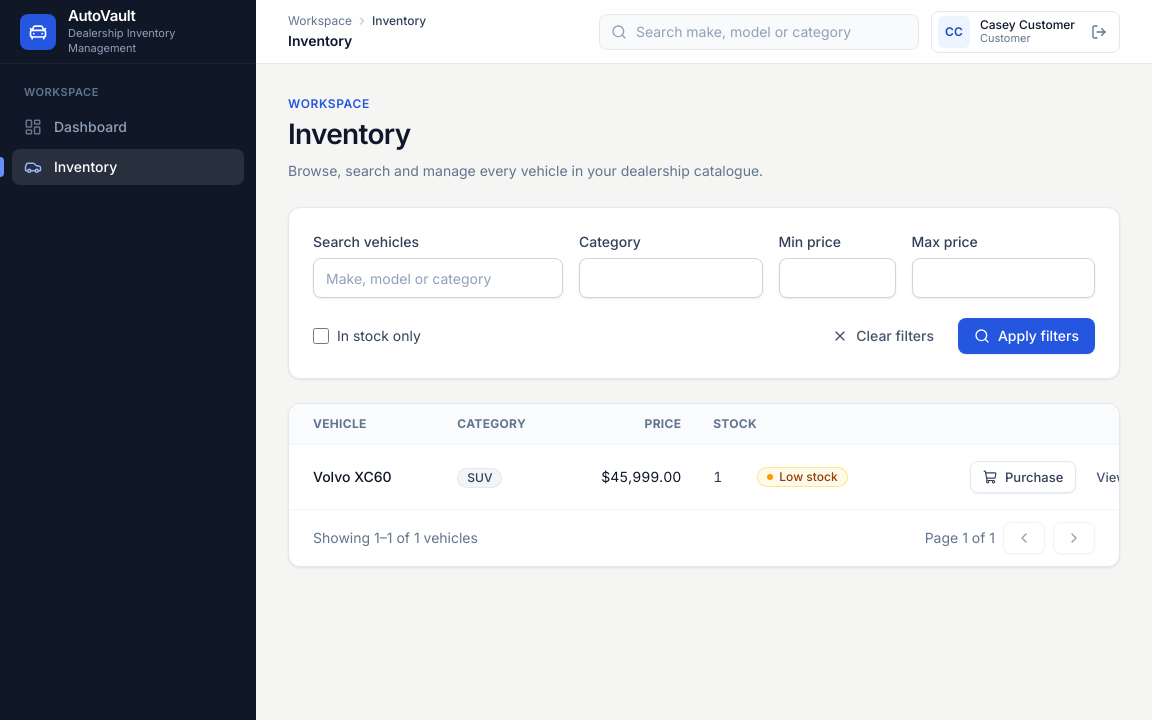
purchasing from the inventory list › shows the server message when a purchase is rejected
Click the button with aria-label "Purchase Volvo XC60". click: coordinates (1023, 477)
box: [970,461,1076,493]
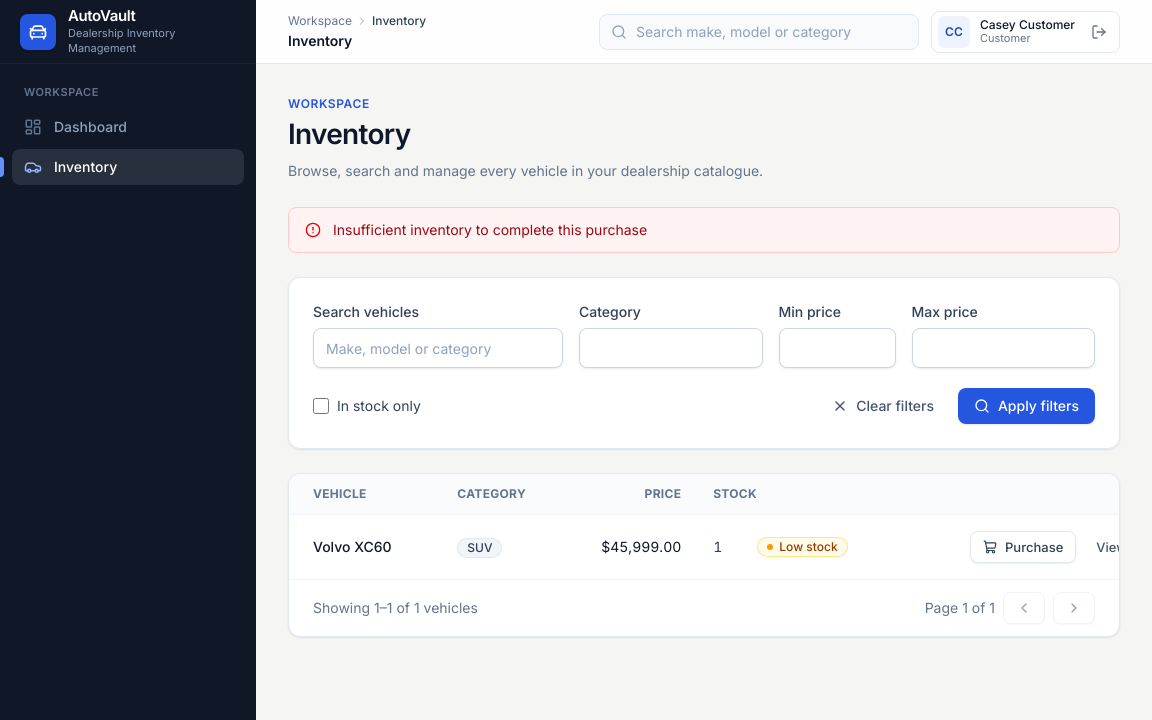
Check: the text "Insufficient inventory to complete this purchase" is shown, box [333,220,647,240]
